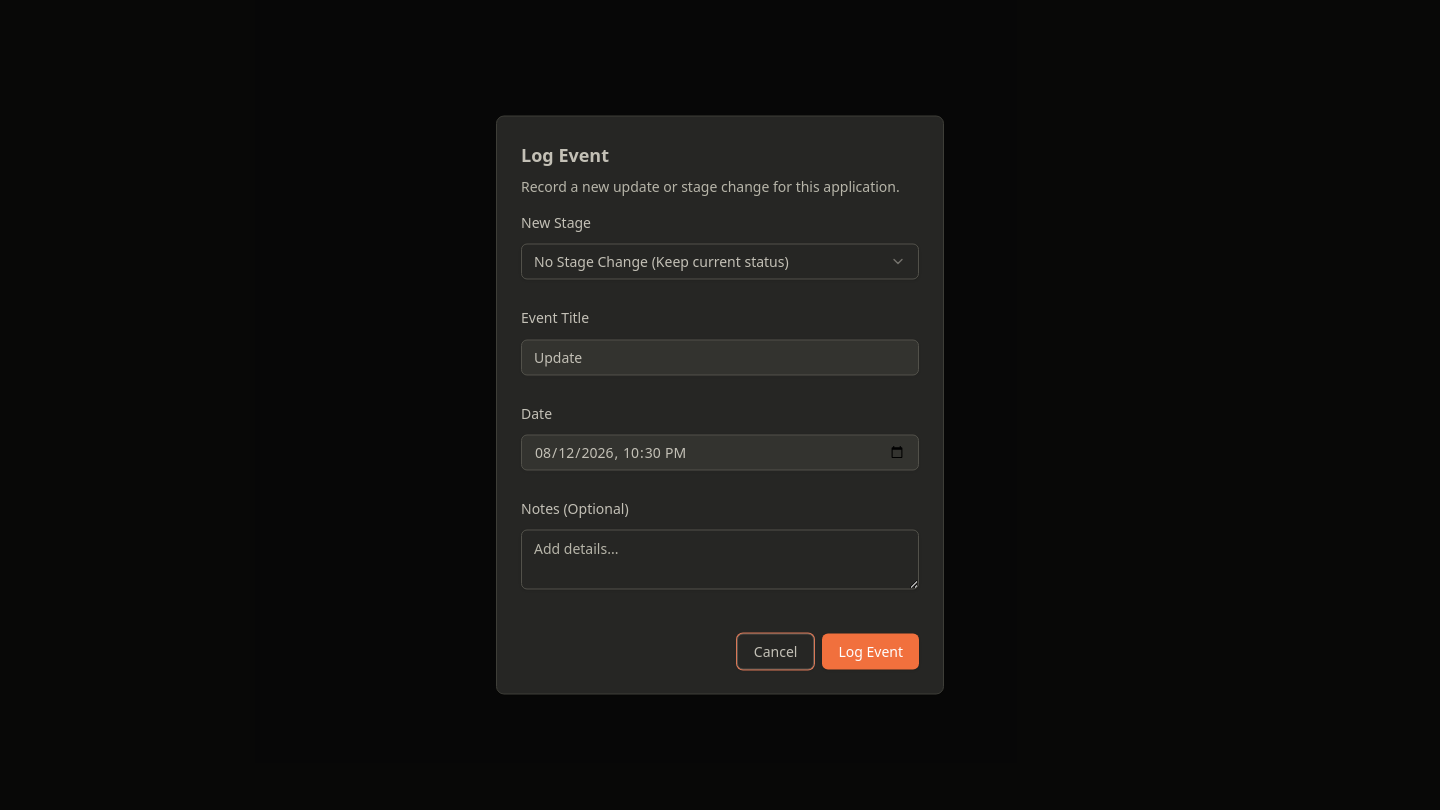
Test: LogEventModal › blocks submit when the title is cleared
Clear the field with placeholder "e.g. Recruiter Screen" below "Event Title" at (720, 357), box 521,339 -> 919,375
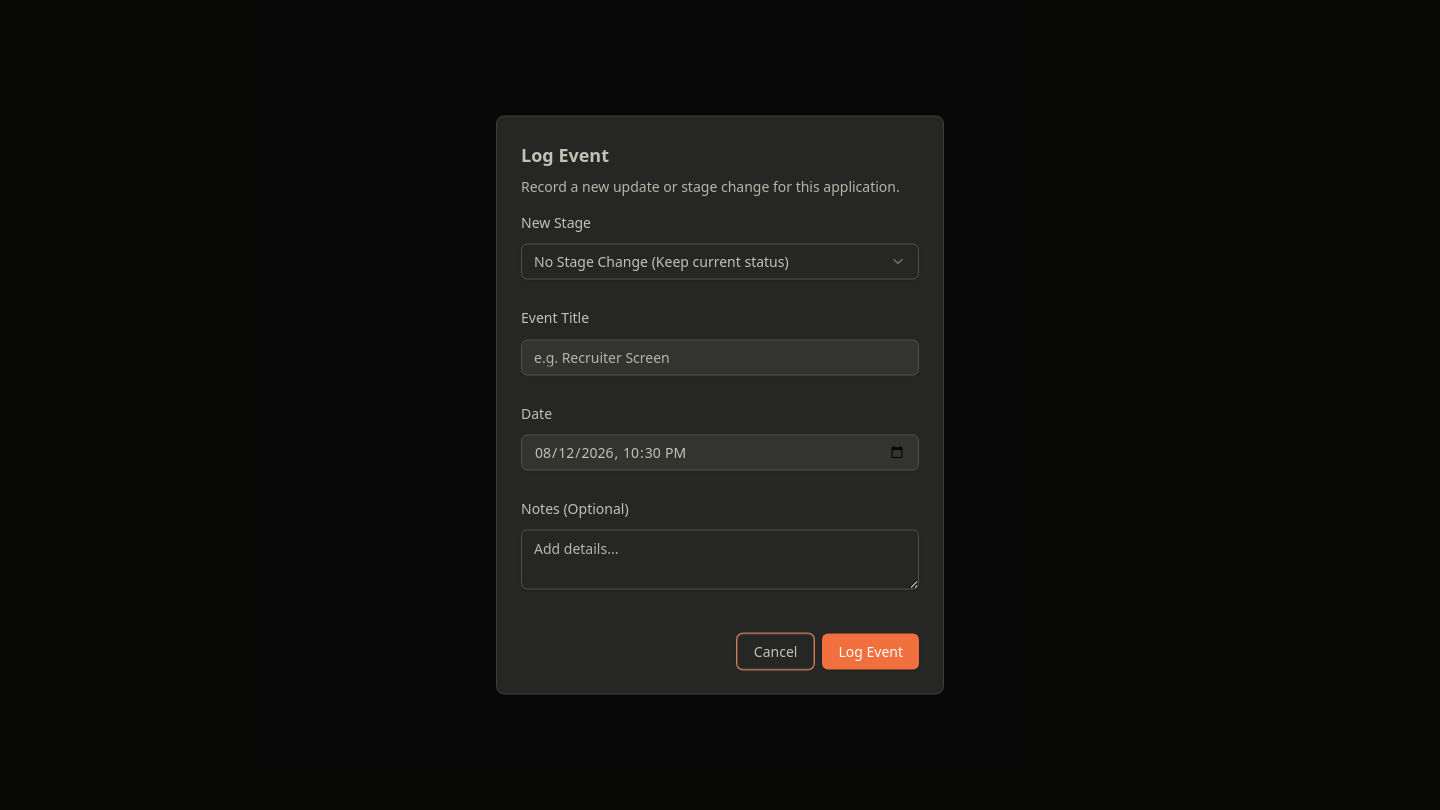
Click the button "Log Event" at (871, 652), box 822,634 -> 919,670
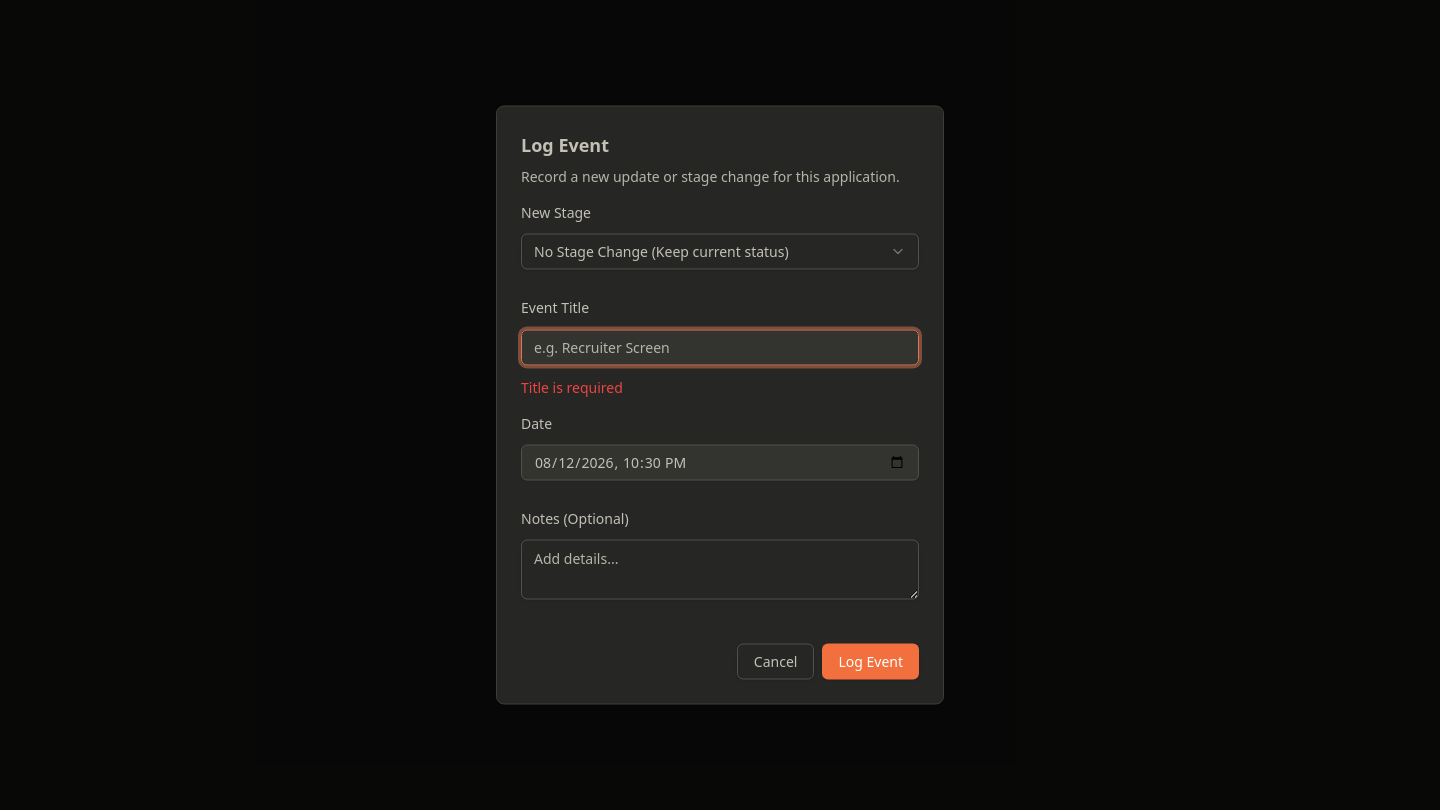
Expected: the text "Title is required" is shown, 521,377 -> 623,396
